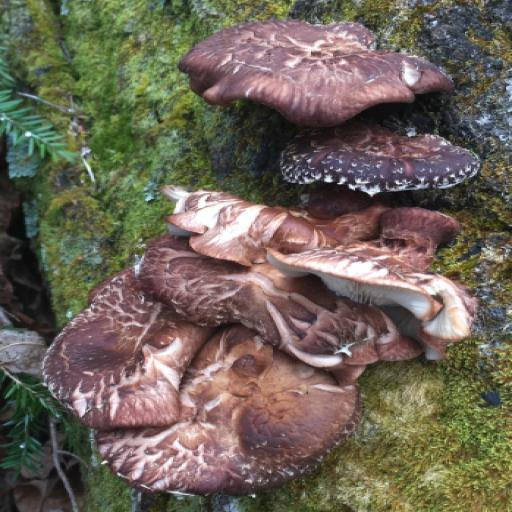Shiitake Mushroom: (15, 81, 505, 512), (201, 21, 445, 117), (288, 128, 470, 197)
